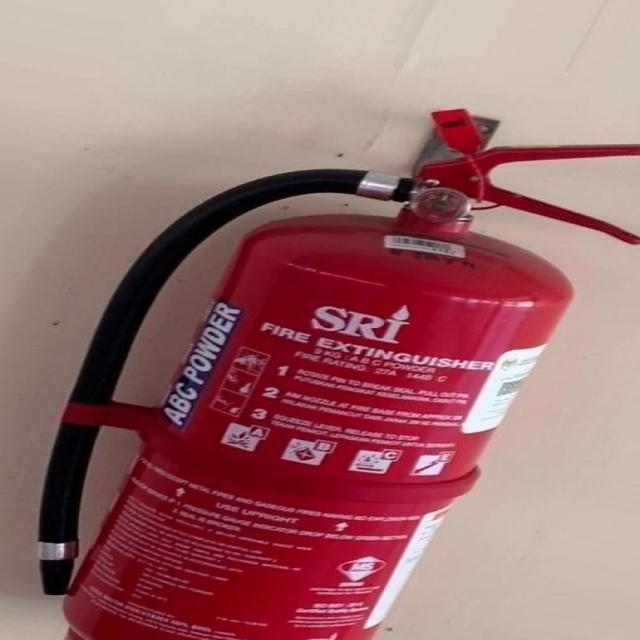fire_extinguisher: (27, 102, 638, 640)
